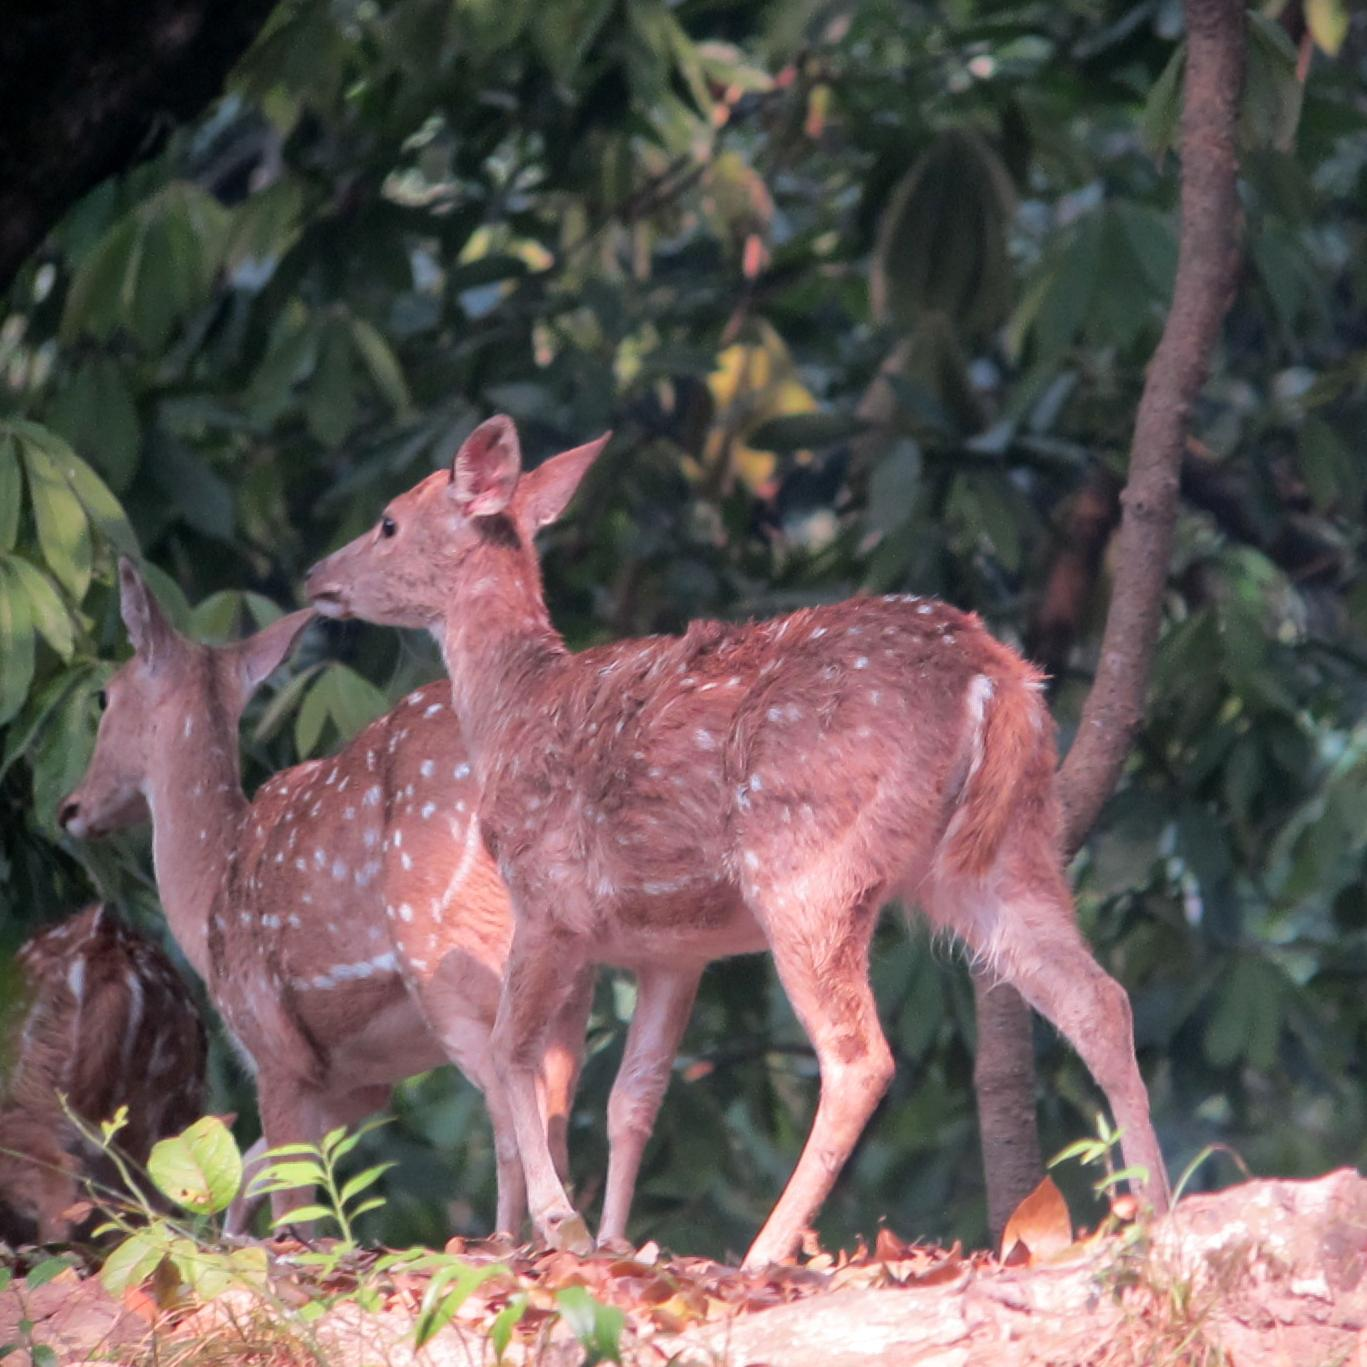Deer: (305, 416, 1168, 1268), (60, 557, 525, 1237)
